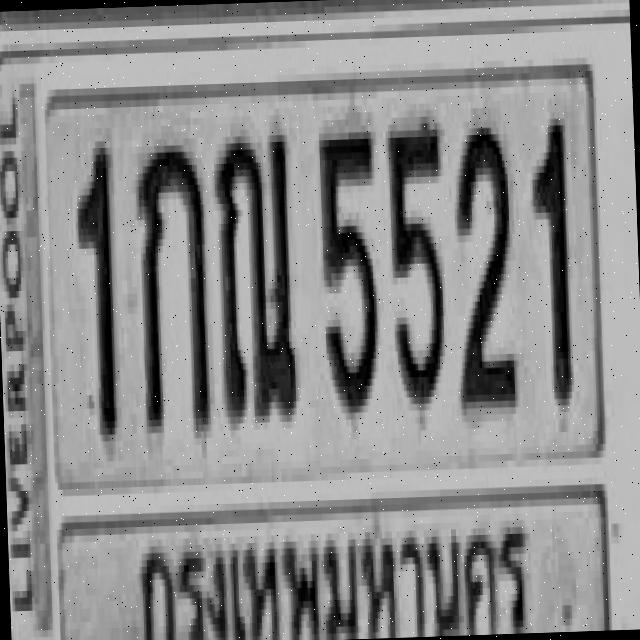1: (72, 138, 119, 438), (528, 111, 573, 406)
10GorGai: (134, 137, 210, 433)
2: (449, 117, 516, 412)
28NorNen: (212, 121, 299, 423)
5: (316, 121, 380, 416), (384, 116, 448, 410)
Bangkok: (126, 501, 540, 640)
